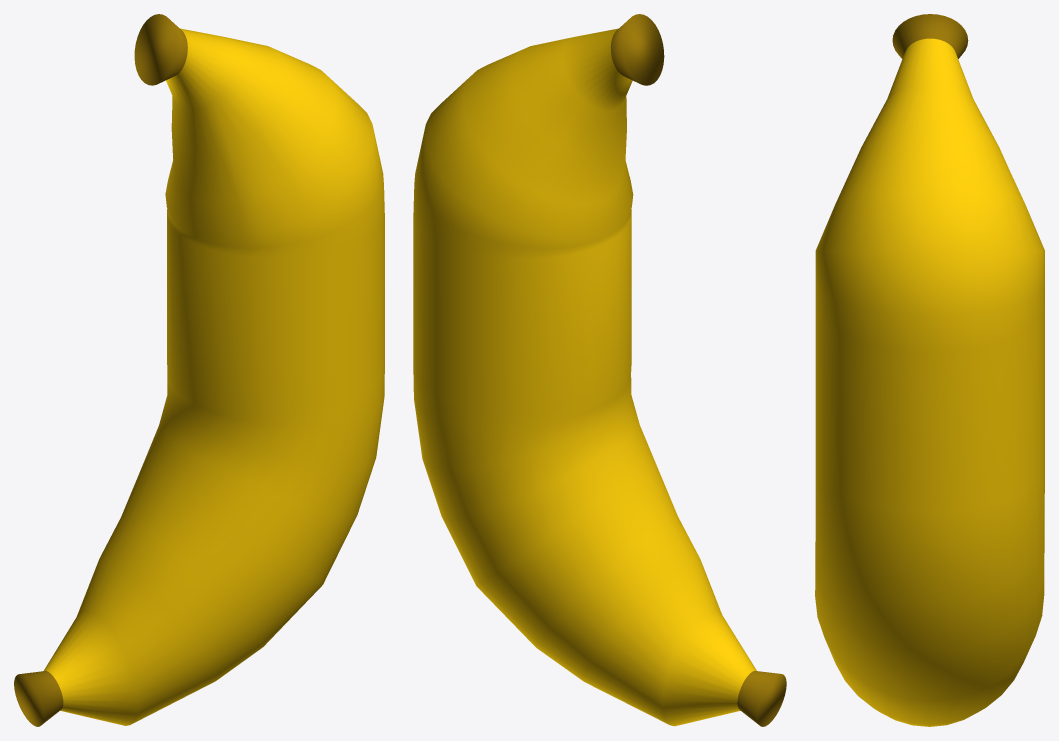
File: Bannana Holdable.fbx
The picture shows the model from 3 angles, left to right: view 1: azimuth 30°, elevation 25°; view 2: azimuth 150°, elevation 25°; view 3: azimuth 270°, elevation 25°; orthographic projection. The views are drawn at different scales.
Parts seen in each view (by area): view 1: Cylinder; view 2: Cylinder; view 3: Cylinder.
Boxes of the visible parts, x1=… form: Cylinder: x1=14, y1=14, x2=384, y2=726; Cylinder: x1=413, y1=14, x2=786, y2=726; Cylinder: x1=815, y1=14, x2=1044, y2=726.
Bounding box in the file's own units: 367 × 699 × 201.
